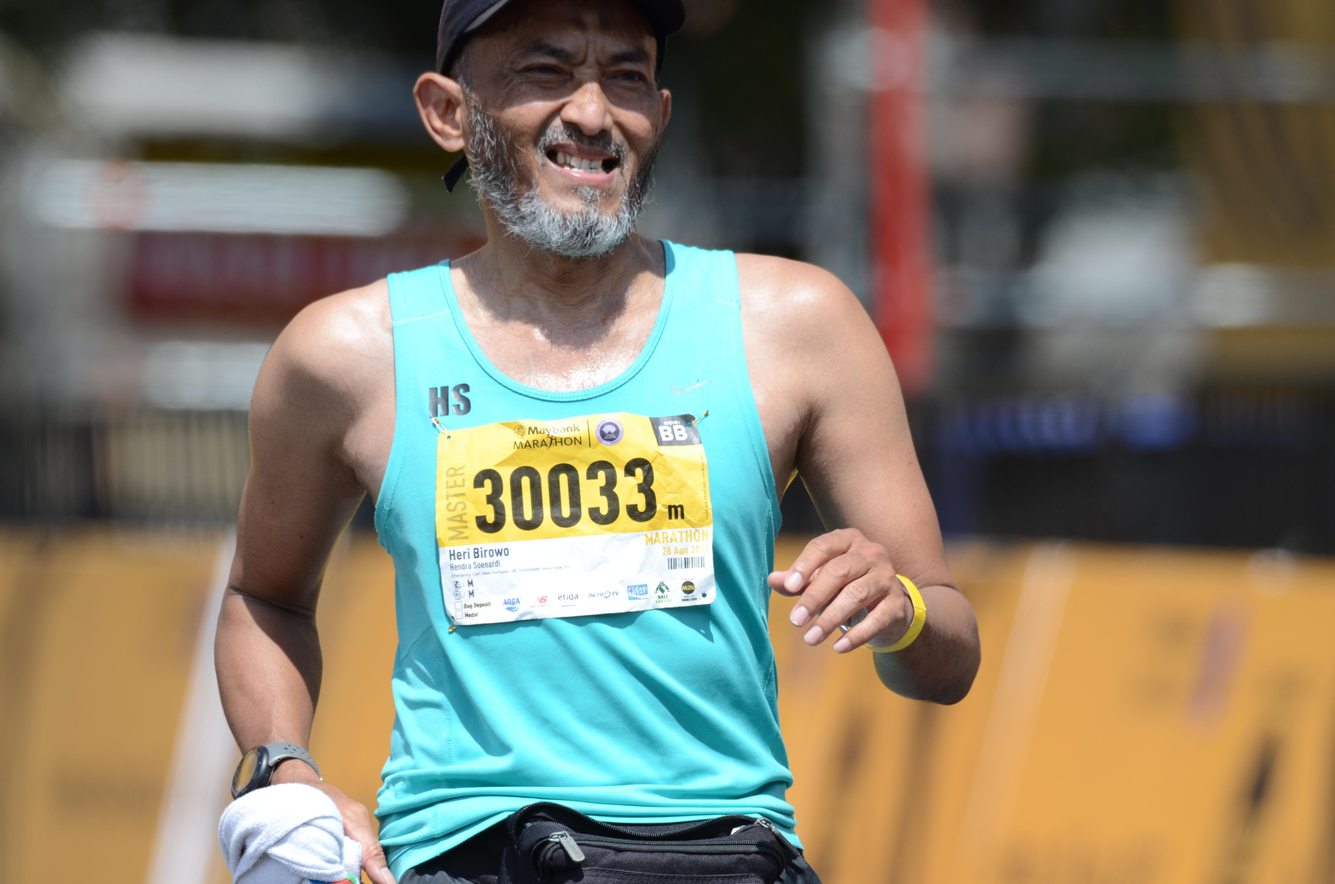bib: (438, 425, 713, 611)
